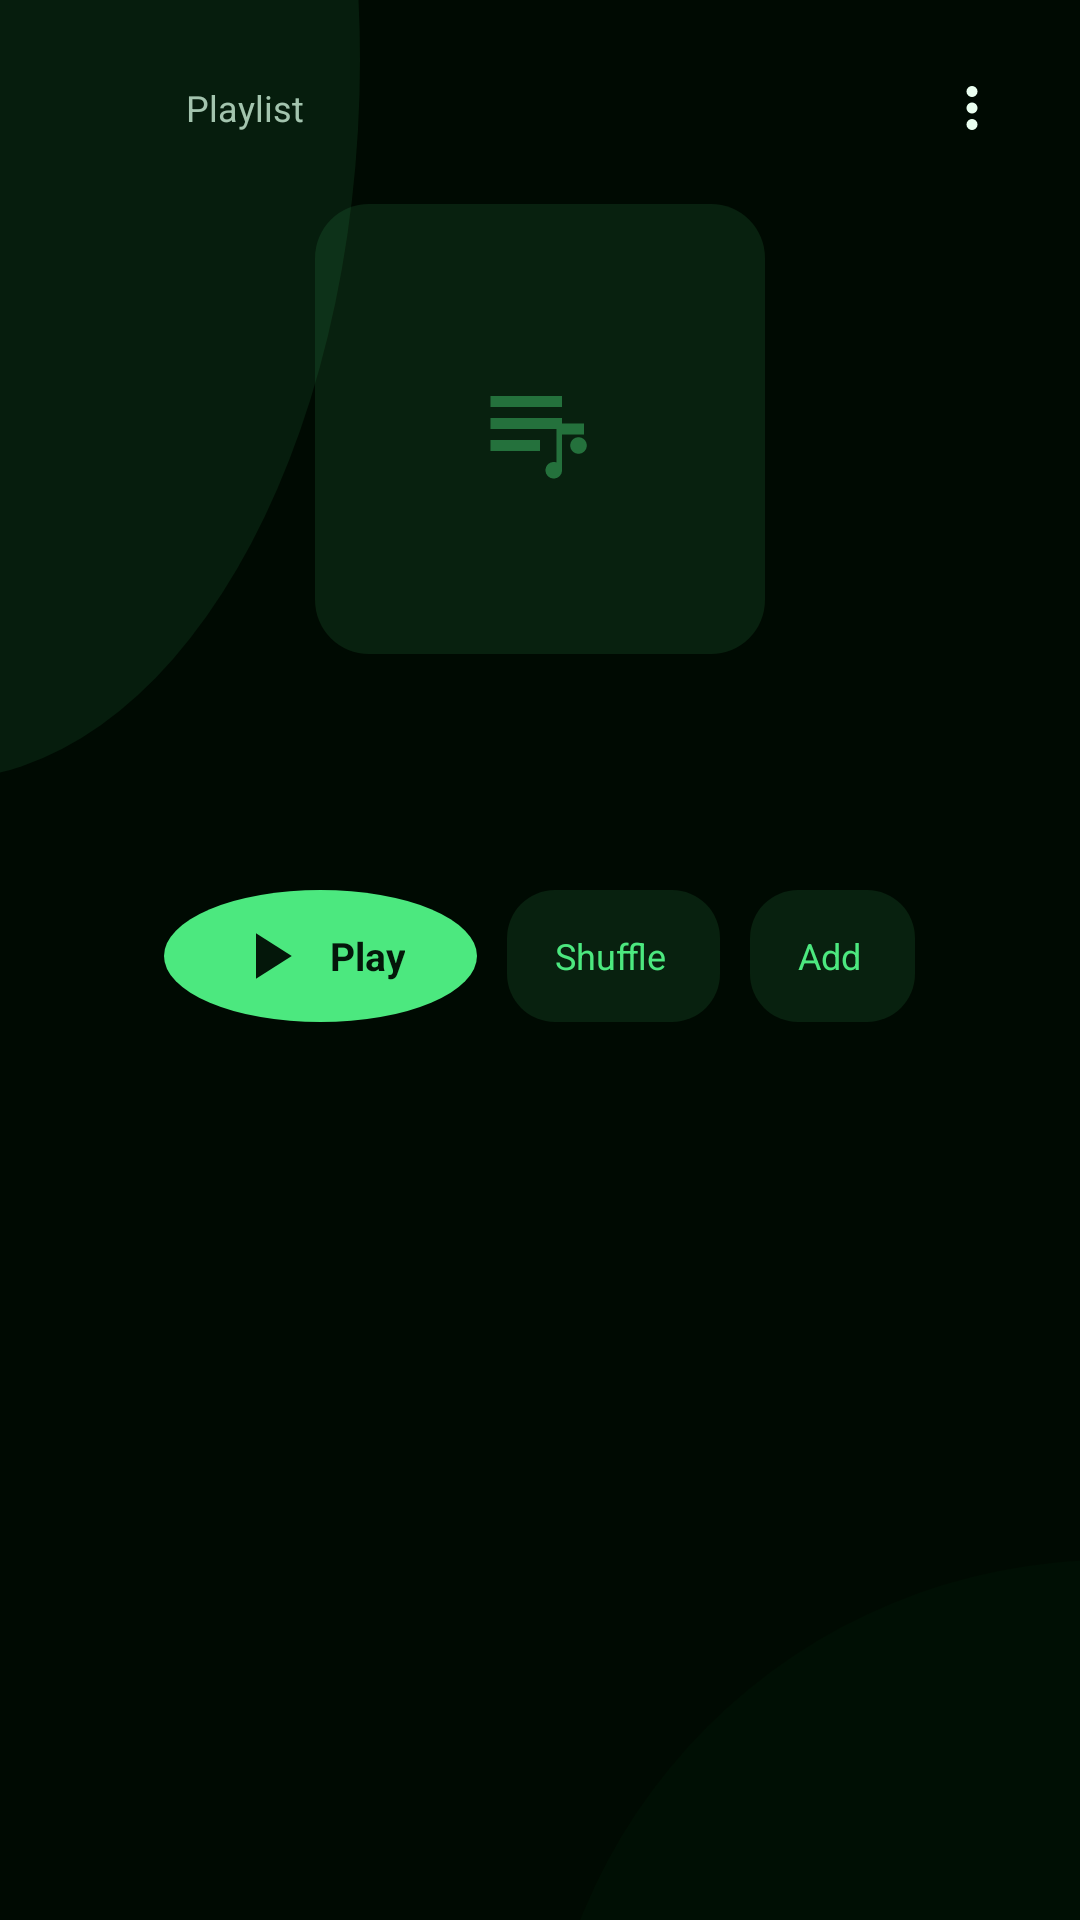

Screen size 1080px×1920px. Icon name, then its center in pixels as [x,y]:
Empty playlist: [538,437]
